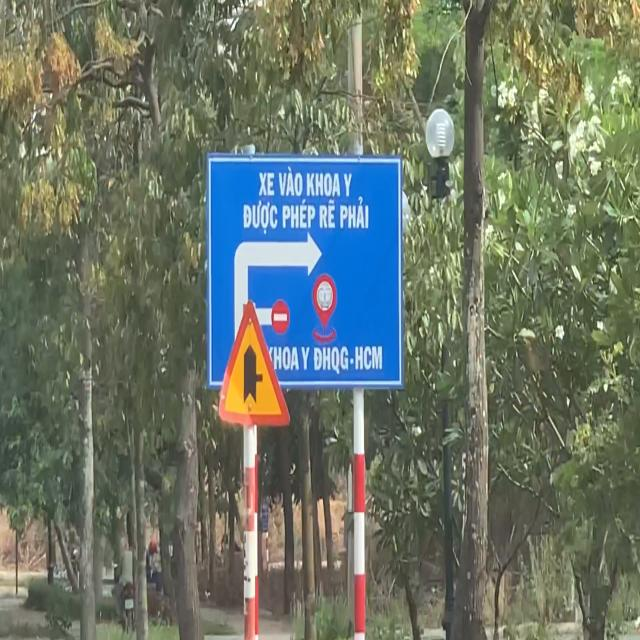Cam nguoc chieu: (270, 300, 290, 334)
Giao voi duong khong uu tien: (216, 298, 292, 429)
